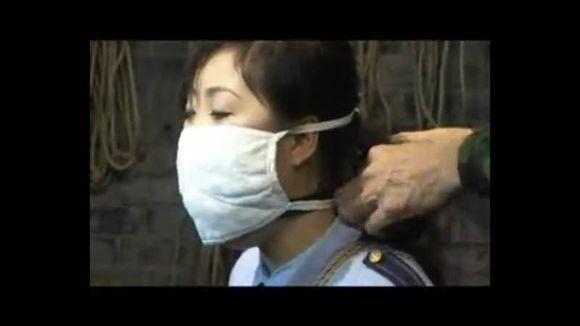OK: (175, 83, 322, 247)
